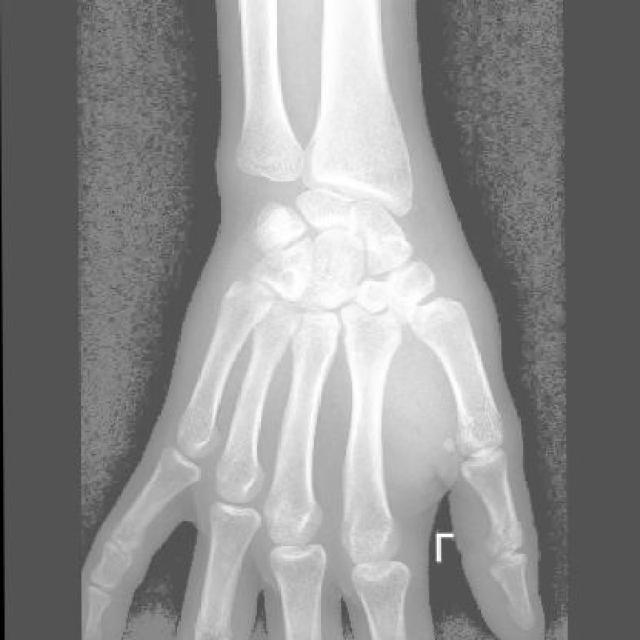Fracture: (382, 280, 424, 328)
